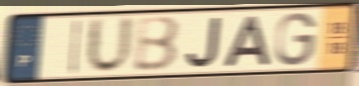A: (220, 14, 274, 69)
B: (133, 14, 182, 73)
G: (273, 10, 319, 68)
I: (67, 18, 84, 77)
J: (184, 15, 223, 70)
U: (85, 14, 137, 77)
